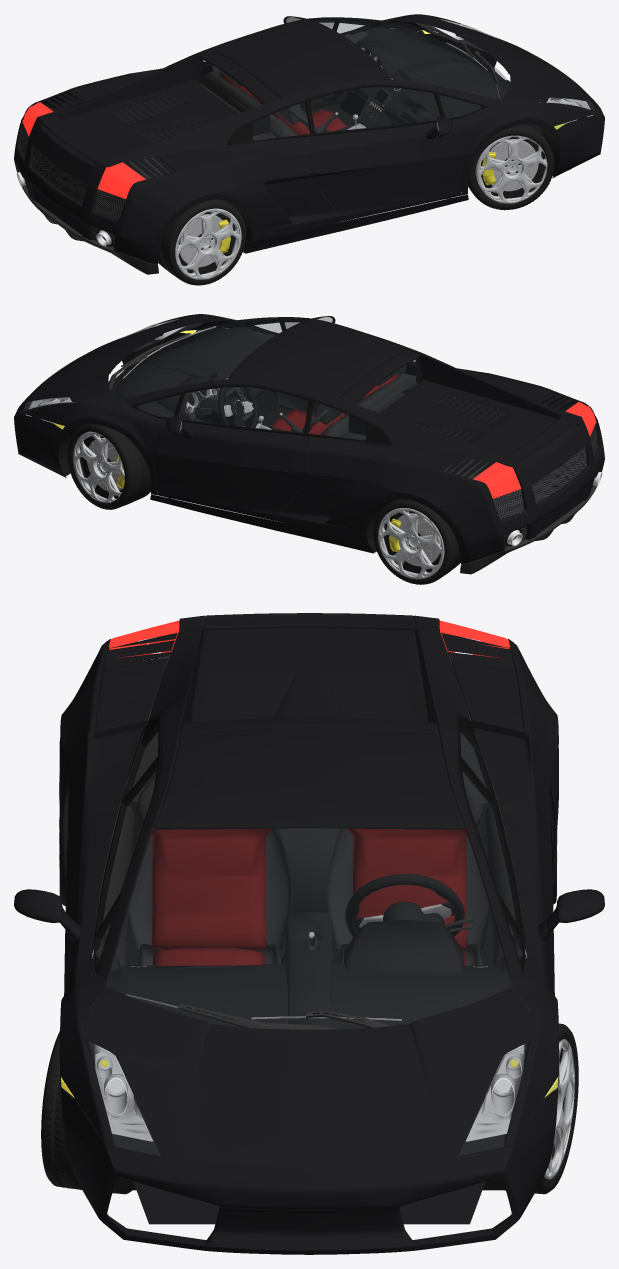
The model's file is gallardo-lod1.glb.
3 renders of one model, top to bottom at view 1: azimuth 30°, elevation 25°; view 2: azimuth 150°, elevation 25°; view 3: azimuth 270°, elevation 25°, orthographic. The views are drawn at different scales.
Visible parts, largest first — view 1: Body, DoorMesh_R, Interior, Rim_FR, Rim_RR, RearGrille, Tire_RR, Tire_FR, Disc_FR, Disc_RR, DoorMesh_L; view 2: Body, DoorMesh_L, Interior, Rim_RL, Tire_FL, Rim_FL, RearGrille, Tire_RL, SteeringWheelMesh, DoorMesh_R, Disc_RL, Disc_FL; view 3: Body, Interior, DoorMesh_L, DoorMesh_R, SteeringWheelMesh, Tire_FR, Rim_FL, Tire_FL.
Part boxes in pixels (x1,y1,x2,y2): Body: (14,14,604,274); DoorMesh_R: (309,87,465,220); Interior: (54,27,506,182); Rim_FR: (475,135,547,203); Rim_RR: (175,208,241,279); RearGrille: (21,124,125,247); Tire_RR: (158,199,246,285); Tire_FR: (468,124,554,210); Disc_FR: (489,139,538,191); Disc_RR: (178,214,222,267); DoorMesh_L: (202,16,351,109); Body: (14,314,604,574); DoorMesh_L: (153,386,309,520); Interior: (112,327,565,481); Rim_RL: (378,508,444,579); Tire_FL: (67,424,150,509); Rim_FL: (73,431,124,502); RearGrille: (493,424,597,547); Tire_RL: (373,499,460,584); SteeringWheelMesh: (195,387,258,427); DoorMesh_R: (267,316,416,409); Disc_RL: (397,513,440,566); Disc_FL: (87,438,121,491); Body: (59,613,559,1254); Interior: (92,655,526,1029); DoorMesh_L: (462,764,604,1010); DoorMesh_R: (14,764,156,1011); SteeringWheelMesh: (345,874,474,936); Tire_FR: (41,1031,132,1194); Rim_FL: (544,1039,574,1179); Tire_FL: (462,1023,578,1194).
Bounding box in the file's own units: 4.28 × 1.14 × 2.22.
28 materials, 1 textured.
